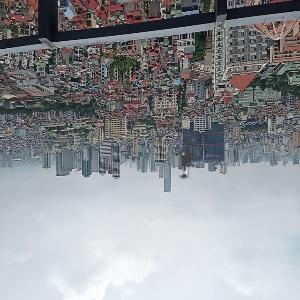drone: (144, 121, 225, 202)
